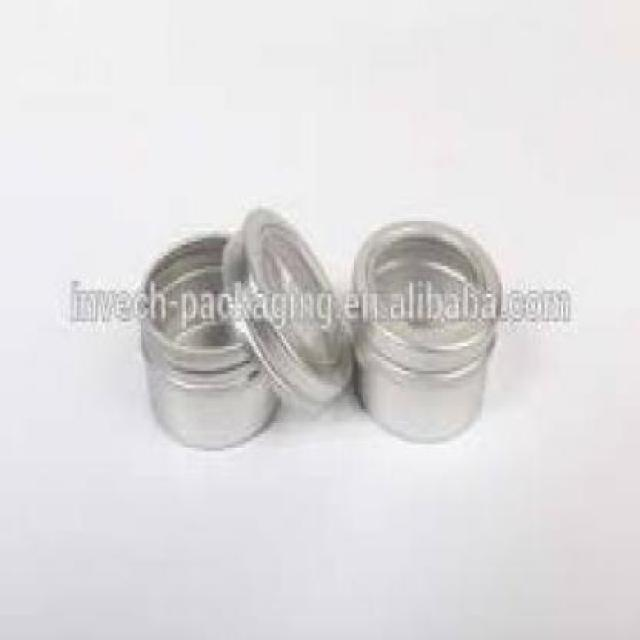METAL: (352, 217, 501, 434), (139, 230, 279, 444), (220, 202, 352, 413)
